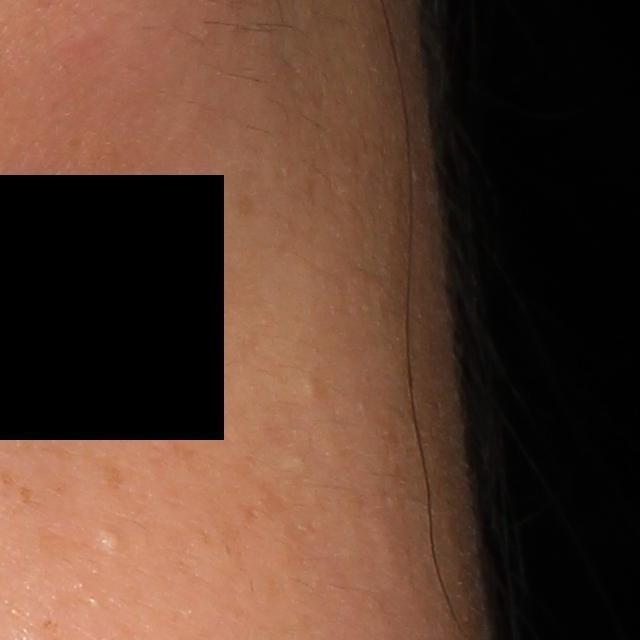comedo: (95, 526, 128, 556), (304, 371, 323, 397)
melasma: (157, 424, 208, 475), (201, 494, 245, 549), (89, 453, 128, 502), (19, 483, 41, 508)
